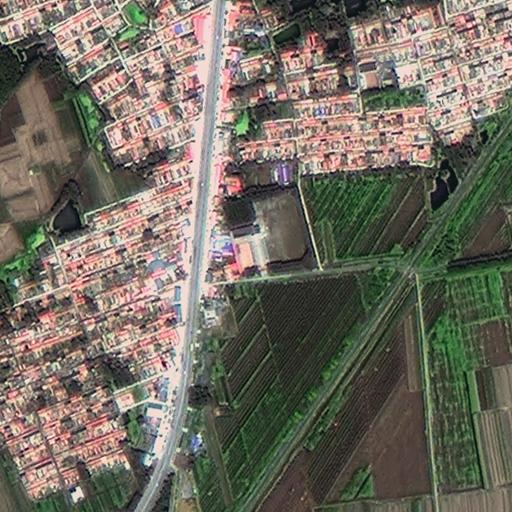school: (223, 183, 313, 278)
